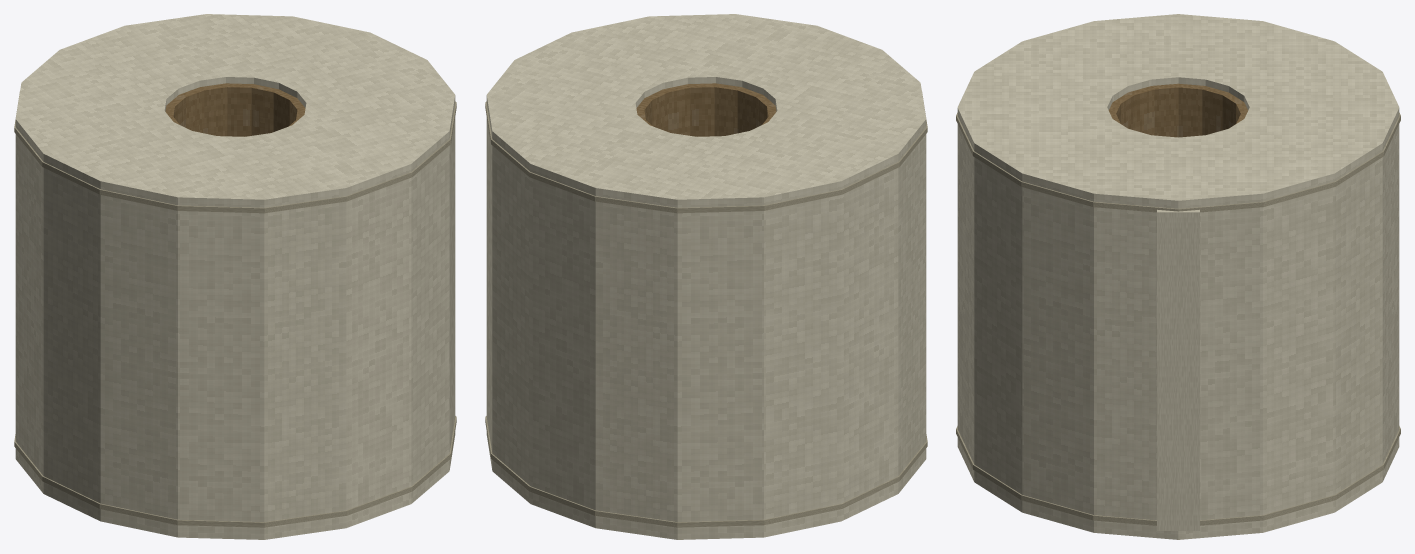
Rendered from toilet_paper_roll.glb.
3 views of the same model, side by side, from view 1: azimuth 30°, elevation 25°; view 2: azimuth 150°, elevation 25°; view 3: azimuth 270°, elevation 25° (orthographic).
Parts seen in each view (by area): view 1: toilet_paper_roll; view 2: toilet_paper_roll; view 3: toilet_paper_roll.
Boxes of the visible parts, x1,y1,x2,y2 form: toilet_paper_roll: (14,14,456,539); toilet_paper_roll: (485,14,927,539); toilet_paper_roll: (956,14,1400,539).
Bounding box in the file's own units: 0.1252 × 0.105 × 0.1248.
3 materials, 3 textured.
